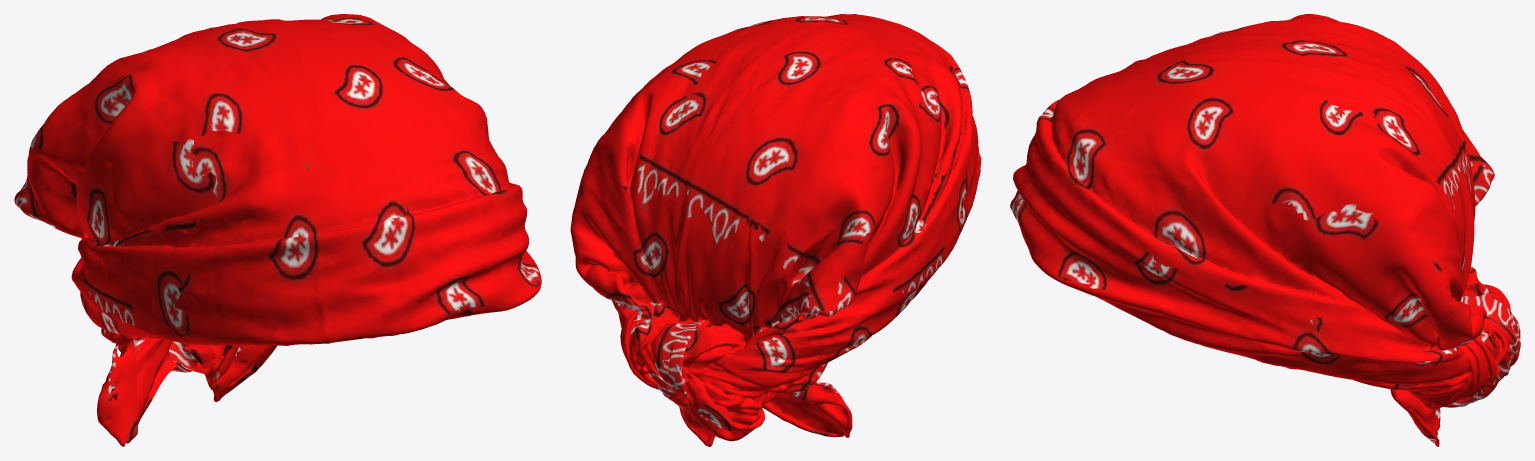
Rendered from sidney-bandana.glb.
The picture shows the model from 3 angles, left to right: view 1: azimuth 30°, elevation 25°; view 2: azimuth 150°, elevation 25°; view 3: azimuth 270°, elevation 25°; orthographic projection. The views are drawn at different scales.
Visible parts, largest first — view 1: SIDNEY_BANDANA; view 2: SIDNEY_BANDANA; view 3: SIDNEY_BANDANA.
Part boxes in pixels (bbox=[...]): SIDNEY_BANDANA: bbox=[14, 14, 541, 446]; SIDNEY_BANDANA: bbox=[570, 14, 981, 446]; SIDNEY_BANDANA: bbox=[1010, 14, 1520, 446].
Size of the model in its own units: 0.8421 by 0.9664 by 1.16.
Materials: 1 (1 with a texture image).
